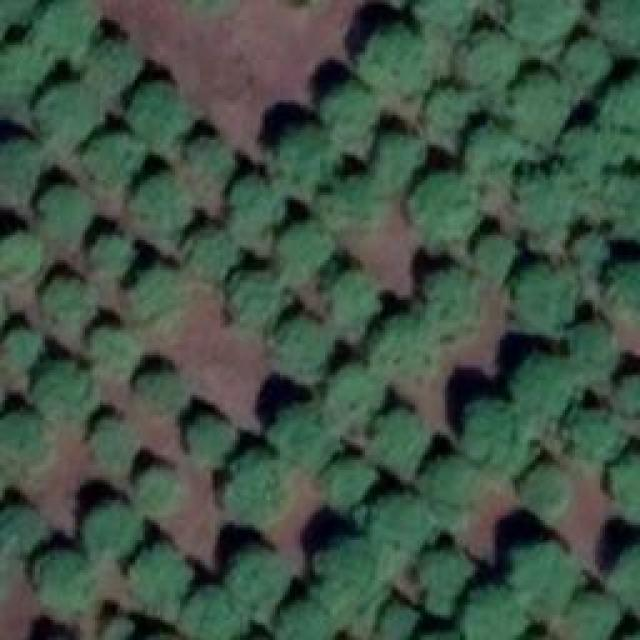Tree: (515, 165, 588, 240), (218, 455, 288, 528), (508, 263, 578, 336), (410, 173, 480, 243), (133, 538, 198, 613), (278, 123, 343, 196), (365, 25, 430, 95), (325, 540, 390, 610), (513, 348, 578, 418), (275, 400, 343, 465), (80, 490, 145, 555), (270, 318, 338, 378), (595, 242, 640, 330), (42, 77, 100, 145), (132, 82, 190, 150), (325, 268, 390, 328), (468, 585, 538, 640), (380, 318, 443, 378), (135, 173, 193, 238), (510, 73, 568, 138), (428, 270, 488, 330), (463, 400, 523, 460), (235, 548, 290, 613), (575, 110, 640, 165), (87, 130, 145, 190), (190, 582, 250, 640), (40, 550, 95, 613), (323, 83, 376, 148), (227, 272, 285, 330), (0, 45, 48, 115), (518, 543, 581, 596), (133, 273, 193, 328), (238, 175, 288, 240), (40, 0, 98, 55), (420, 547, 475, 605), (422, 83, 480, 136), (468, 125, 521, 183), (512, 0, 580, 45), (463, 30, 518, 85), (325, 180, 385, 230), (375, 493, 435, 543), (283, 225, 336, 280), (340, 362, 390, 420), (565, 413, 623, 463), (40, 185, 88, 245), (38, 360, 91, 413), (425, 457, 483, 505), (0, 415, 50, 470), (48, 275, 98, 328), (188, 228, 238, 281), (565, 35, 615, 88), (135, 370, 190, 418), (88, 325, 141, 373), (375, 132, 428, 180), (0, 323, 50, 373), (138, 465, 188, 515), (573, 590, 623, 640), (528, 465, 573, 520), (0, 505, 48, 555), (190, 418, 238, 468), (383, 415, 433, 463), (93, 35, 138, 88), (570, 320, 615, 373), (328, 460, 383, 503), (0, 137, 42, 192), (472, 230, 520, 278), (602, 170, 640, 230), (0, 228, 45, 278), (195, 133, 235, 188), (93, 422, 136, 470), (283, 600, 333, 640), (93, 230, 136, 275), (378, 602, 423, 640), (610, 460, 640, 515), (615, 543, 640, 606), (605, 375, 640, 415), (602, 0, 640, 30)
